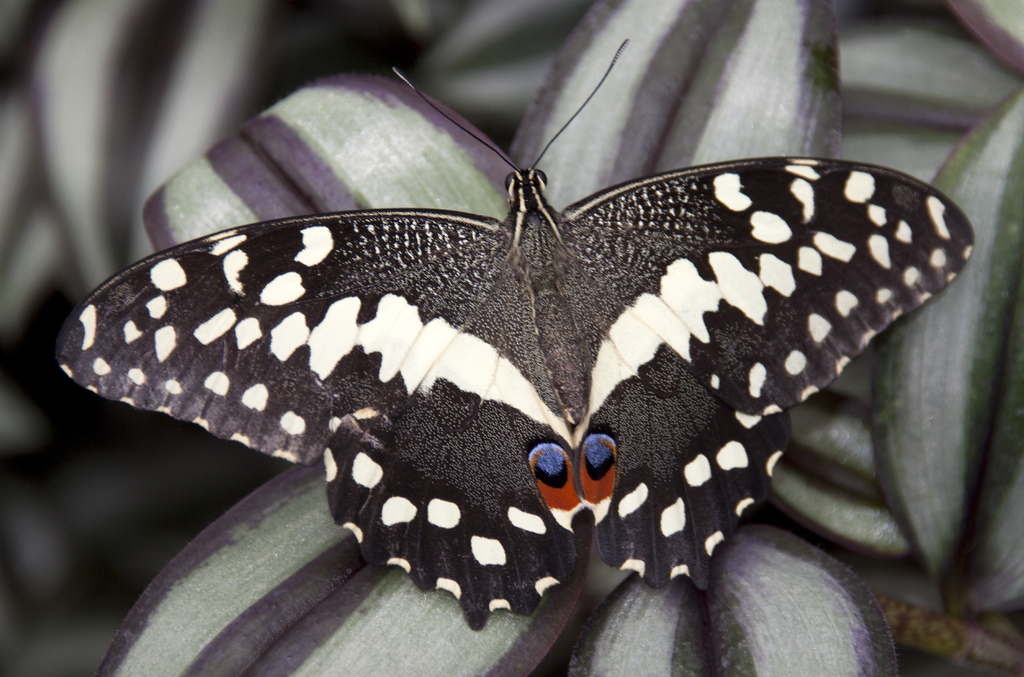Butterfly: (52, 128, 989, 617)
